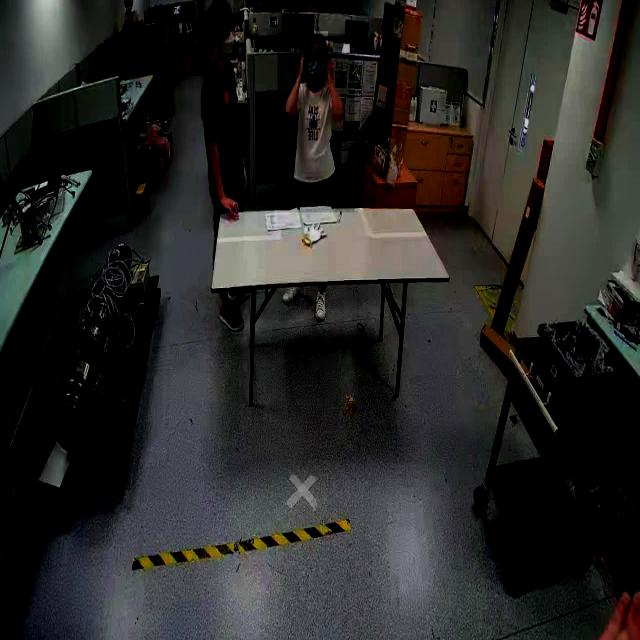face_mask: (304, 46, 326, 88), (217, 22, 236, 62)
hand_noglove: (221, 194, 241, 218), (326, 54, 338, 84), (298, 52, 310, 80), (241, 158, 249, 191)
head_nohelmet: (205, 0, 234, 20), (306, 31, 328, 45)
person: (277, 34, 355, 213), (198, 2, 248, 218)
shoes: (217, 299, 246, 335), (313, 284, 330, 322), (281, 284, 305, 310)
